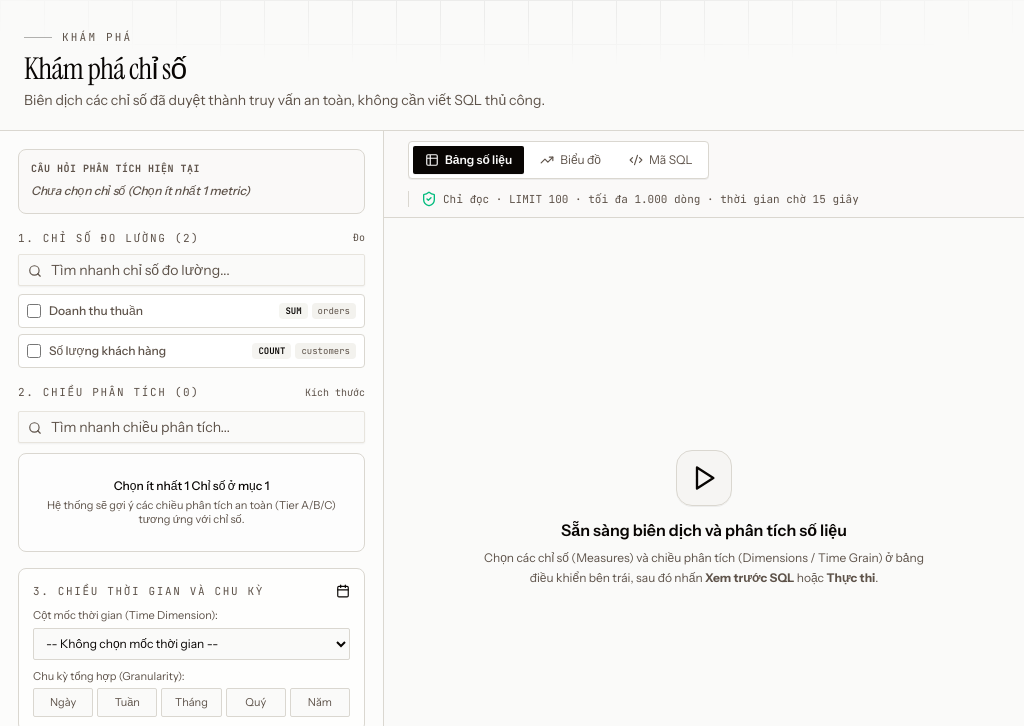
MetricExplorerView › filters metric list in Section 1 by metric search query and clears search
Expected: the text "Doanh thu thuần" is shown, [49,303,143,319]
Expected: the text "Số lượng khách hàng" is shown, [49,343,166,359]
# Type in metric search
Type "khách hàng" into the field with placeholder "Tìm nhanh chỉ số đo lường..." at (192, 270), box [18,254,365,286]
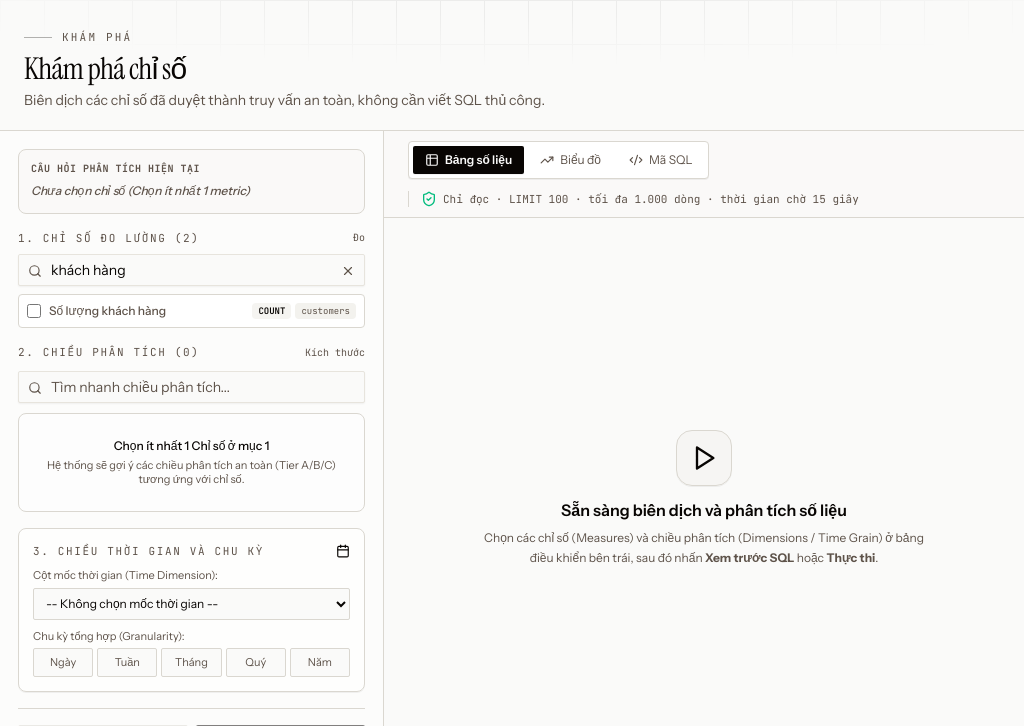
Expected: the text "Số lượng khách hàng" is shown, [49,303,166,319]
Expected: the text "Doanh thu thuần" is gone
# Type non-matching search
Replace the text in the field with placeholder "Tìm nhanh chỉ số đo lường..." with "không tồn tại" at (192, 270), box [18,254,365,286]
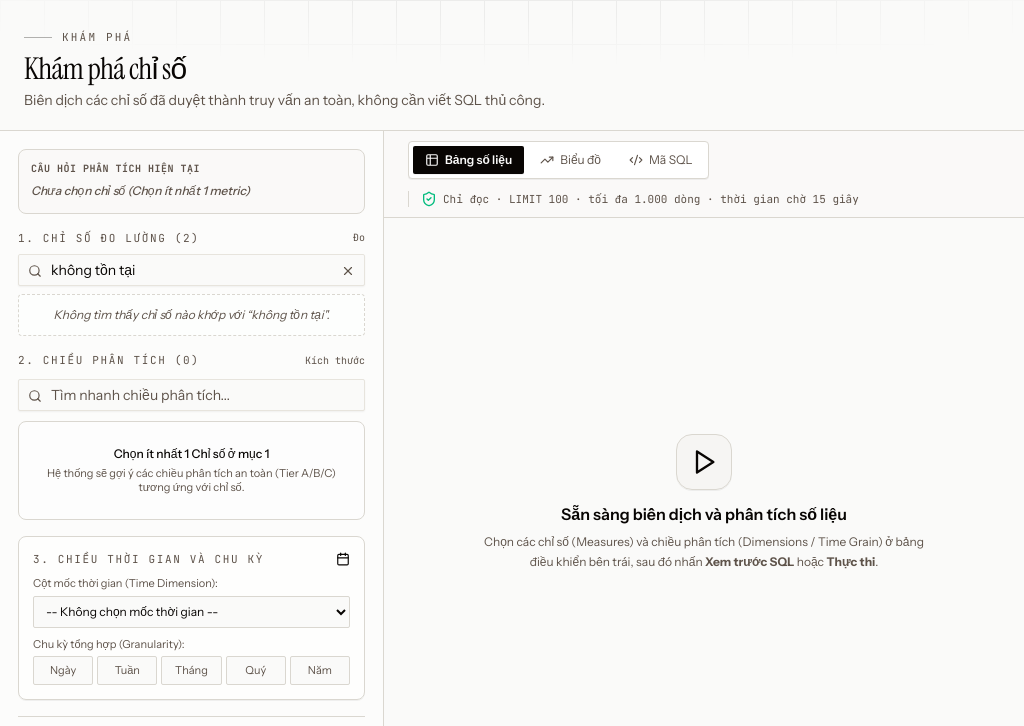
Expected: the text "Không tìm thấy chỉ số nào khớp với “không tồn tại\"." is shown, [18,294,365,336]
# Clear search
Clear the field with placeholder "Tìm nhanh chỉ số đo lường..." at (192, 270), box [18,254,365,286]
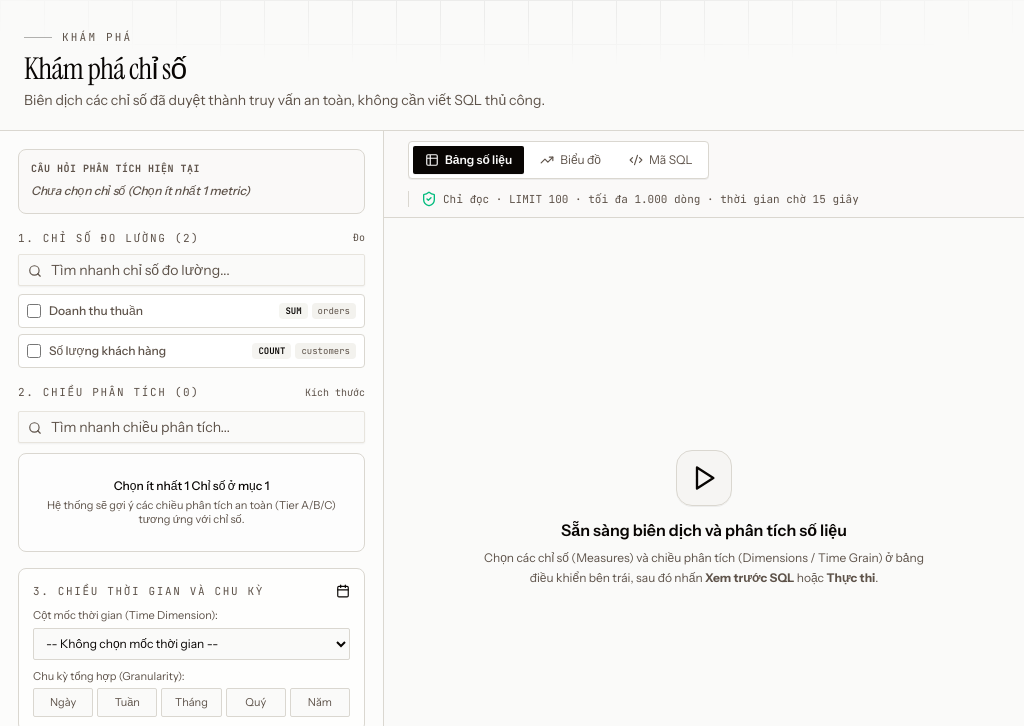
Expected: the text "Doanh thu thuần" is shown, [49,303,143,319]
Expected: the text "Số lượng khách hàng" is shown, [49,343,166,359]
